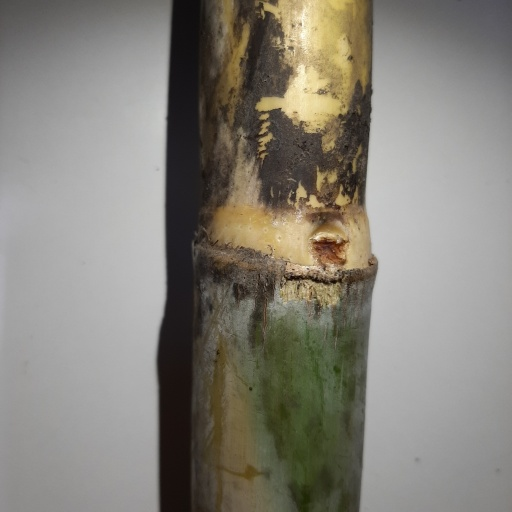Damage_Bud: (311, 223, 349, 268)
